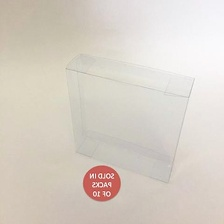plastic_box: (57, 46, 205, 189)
